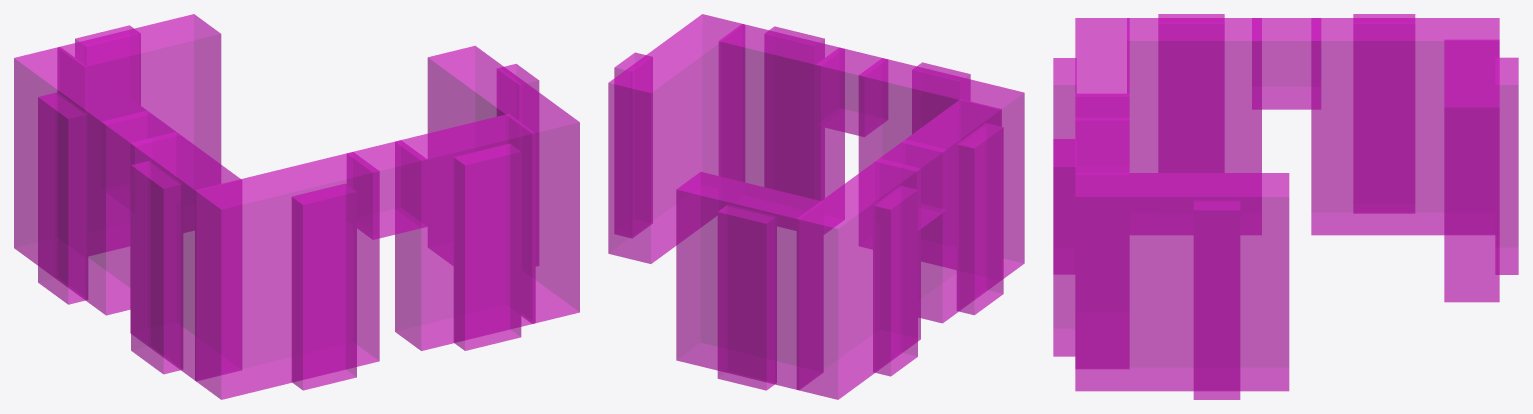
File: SM_Bld_Wall_L_Corner_Doorway_Double_01_Collision.fbx
3 views of the same model, side by side, from view 1: azimuth 30°, elevation 25°; view 2: azimuth 150°, elevation 25°; view 3: azimuth 270°, elevation 25° (orthographic). The views are drawn at different scales.
Parts seen in each view (by area): view 1: SM_Bld_Wall_L_Corner_Doorway_Double_01_Collision; view 2: SM_Bld_Wall_L_Corner_Doorway_Double_01_Collision; view 3: SM_Bld_Wall_L_Corner_Doorway_Double_01_Collision.
Boxes of the visible parts, x1=… form: SM_Bld_Wall_L_Corner_Doorway_Double_01_Collision: x1=14, y1=14, x2=579, y2=399; SM_Bld_Wall_L_Corner_Doorway_Double_01_Collision: x1=608, y1=14, x2=1024, y2=399; SM_Bld_Wall_L_Corner_Doorway_Double_01_Collision: x1=1053, y1=14, x2=1518, y2=399.
Bounding box in the file's own units: 659 × 305 × 661.
